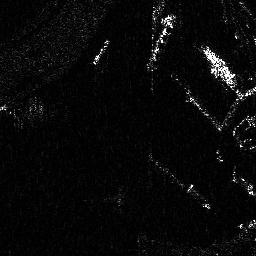ship: (144, 12, 176, 70), (201, 45, 236, 86), (92, 38, 108, 65)
